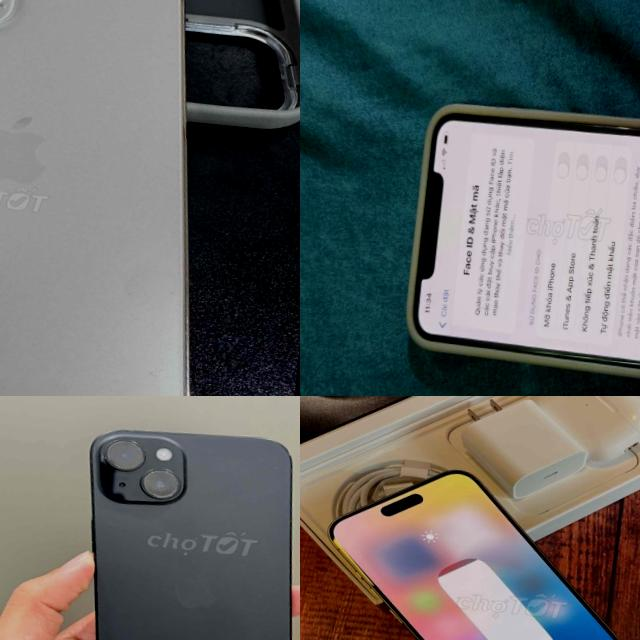gen_12_13: (0, 0, 250, 396)
gen_15: (16, 409, 300, 640), (300, 454, 640, 640)
gen_x_xs: (392, 94, 640, 396)
